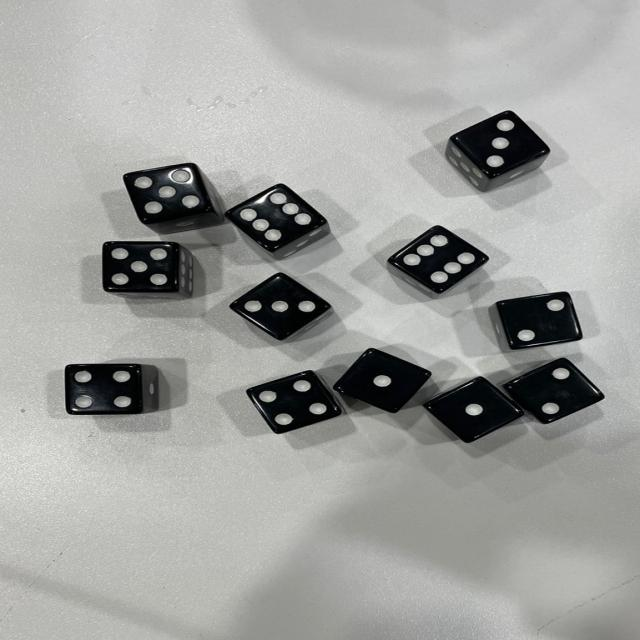DICE1: (453, 390, 514, 444), (364, 352, 407, 408)
DICE2: (530, 357, 626, 435), (506, 290, 606, 348)
DICE3: (453, 90, 574, 176), (244, 283, 338, 336)
DICE4: (227, 374, 338, 436), (58, 359, 156, 417)
DICE5: (116, 161, 216, 223), (99, 239, 187, 293)
DICE6: (383, 216, 487, 293), (222, 185, 341, 244)
